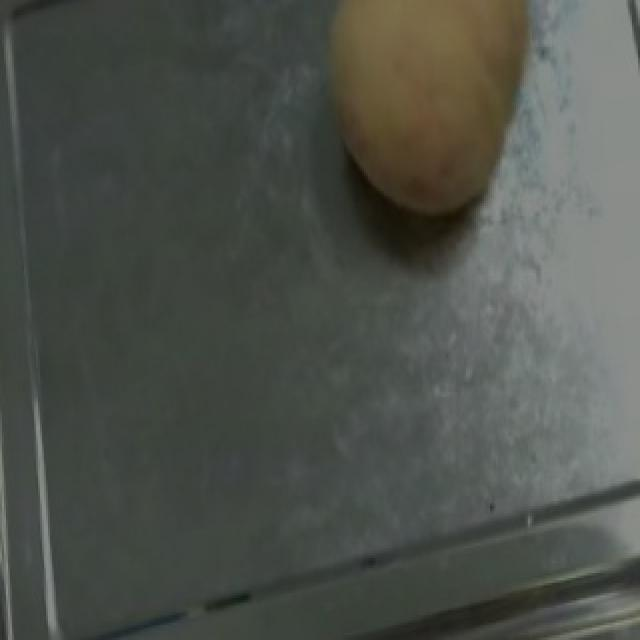Fruit: (292, 0, 566, 246)
